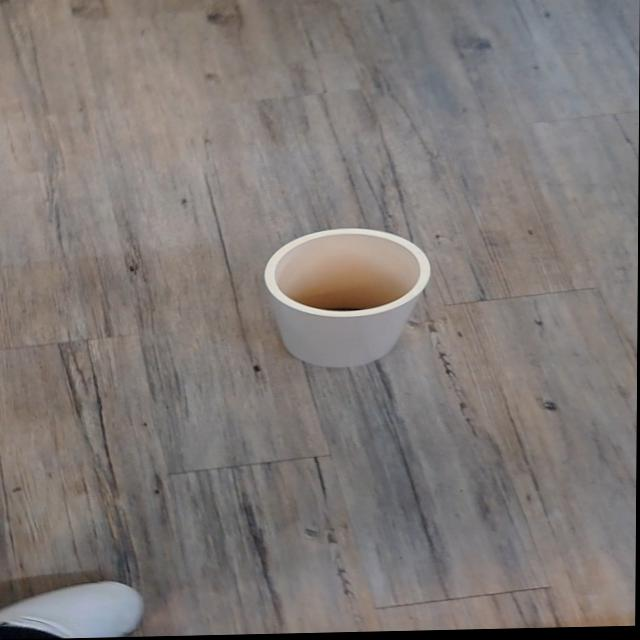CORAL: (247, 203, 462, 382)
